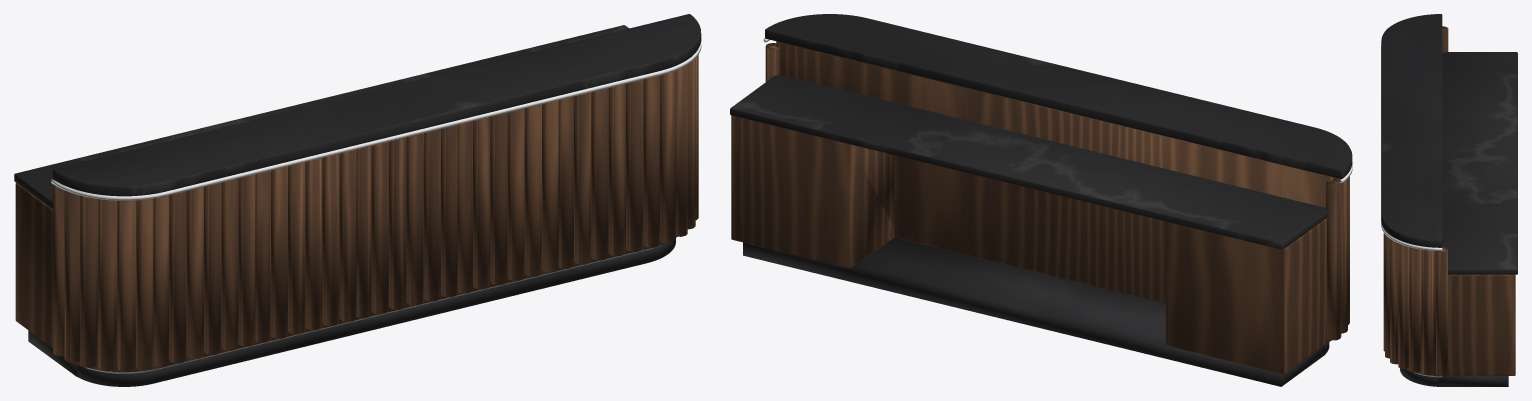
Rendered from ReceptionDesk.fbx.
3 renders of one model, left to right at view 1: azimuth 30°, elevation 25°; view 2: azimuth 150°, elevation 25°; view 3: azimuth 270°, elevation 25°, orthographic. The views are drawn at different scales.
Parts seen in each view (by area): view 1: DeskFront, DeskTop, DeskPlinth, DeskBody, DeskTrim; view 2: DeskBody, DeskTop, DeskFront, DeskPlinth; view 3: DeskTop, DeskFront, DeskBody, DeskPlinth, DeskTrim.
Boxes of the visible parts, x1,y1,x2,y2 form: DeskFront: (53, 55, 698, 372); DeskTop: (14, 14, 701, 209); DeskPlinth: (28, 238, 675, 386); DeskBody: (15, 183, 52, 347); DeskTrim: (51, 38, 701, 373); DeskBody: (731, 115, 1330, 374); DeskTop: (730, 14, 1352, 249); DeskFront: (765, 41, 1349, 341); DeskPlinth: (743, 237, 1329, 386); DeskTop: (1381, 14, 1517, 274); DeskFront: (1383, 26, 1448, 376); DeskBody: (1443, 274, 1515, 375); DeskPlinth: (1400, 368, 1508, 386); DeskTrim: (1381, 46, 1442, 377).
Size of the model in its own units: 1140 by 360 by 290.
